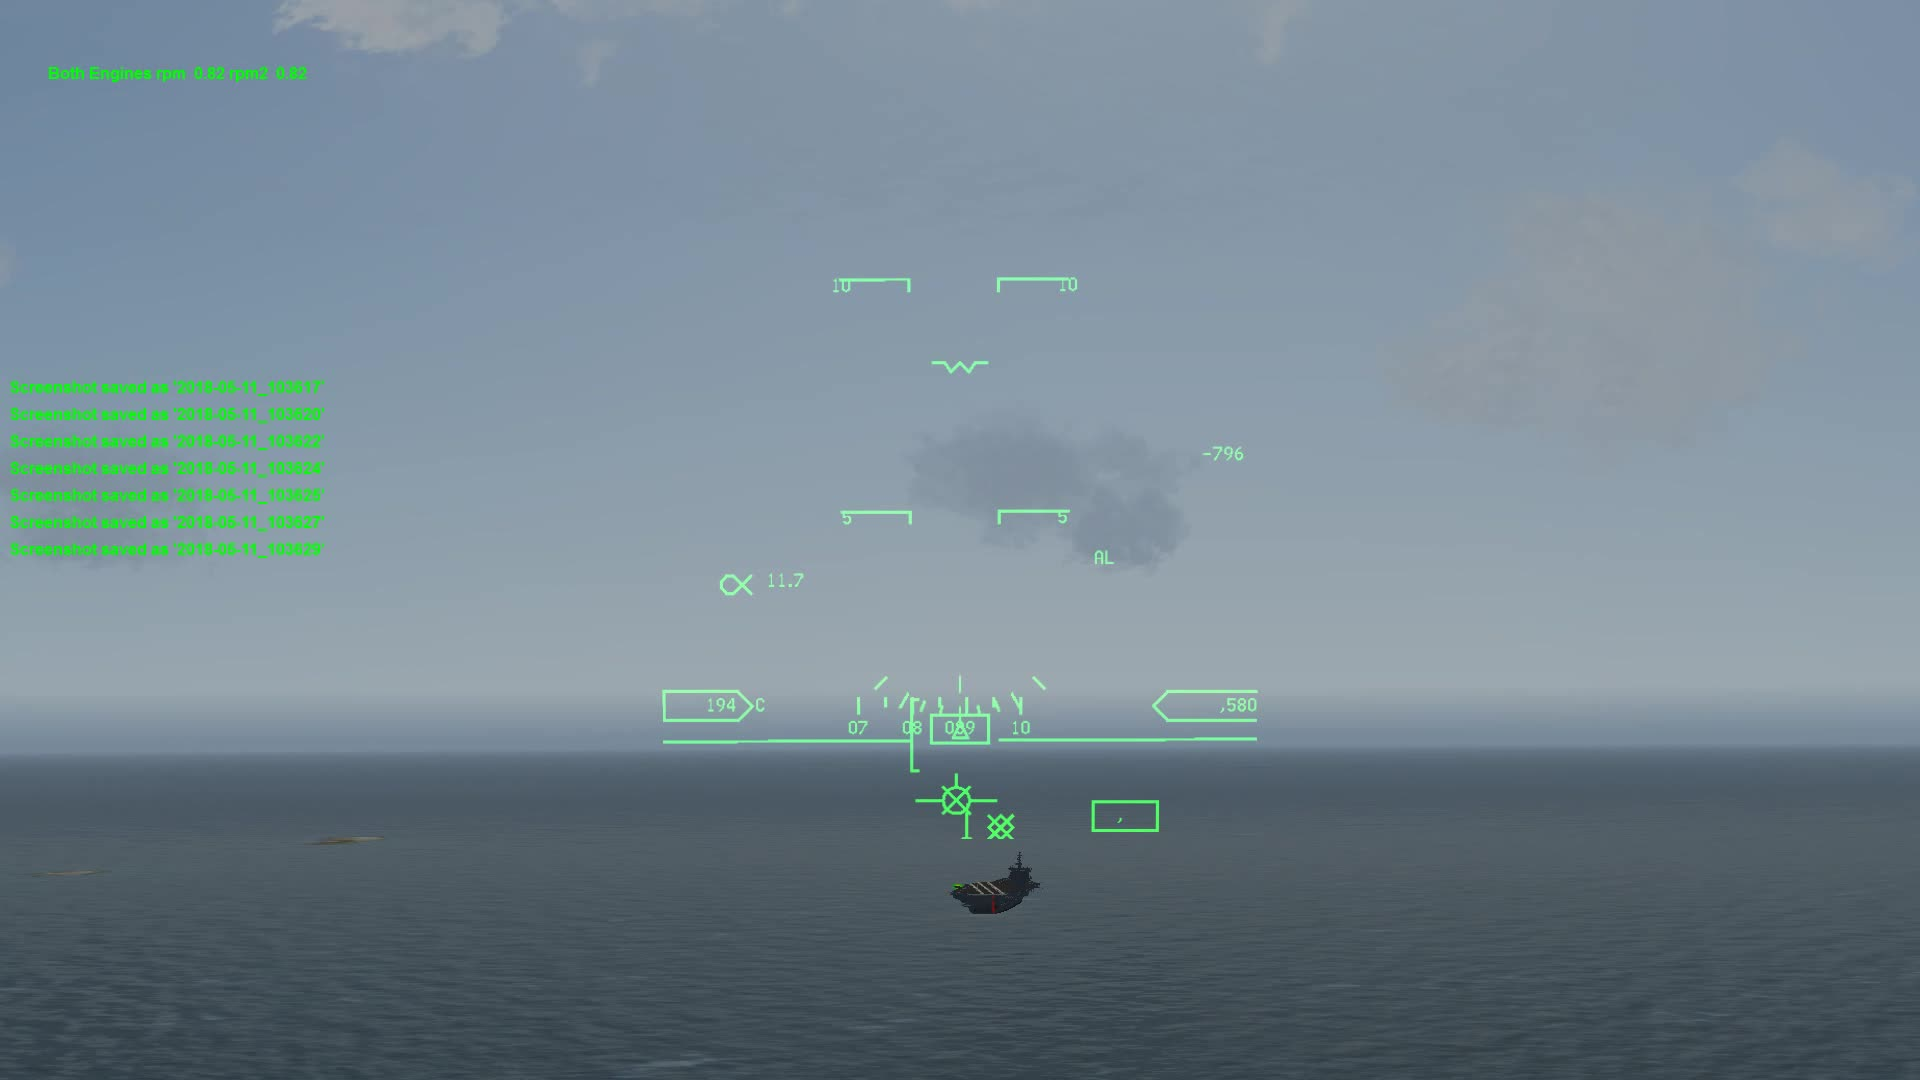speed vector: (909, 778, 1004, 818)
